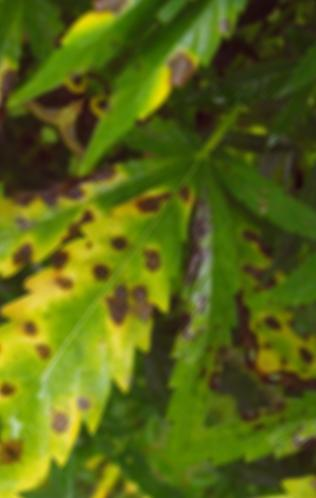Tomato leaf bacterial spot: (0, 145, 278, 494), (0, 87, 180, 398), (44, 0, 279, 200), (234, 167, 316, 345)
